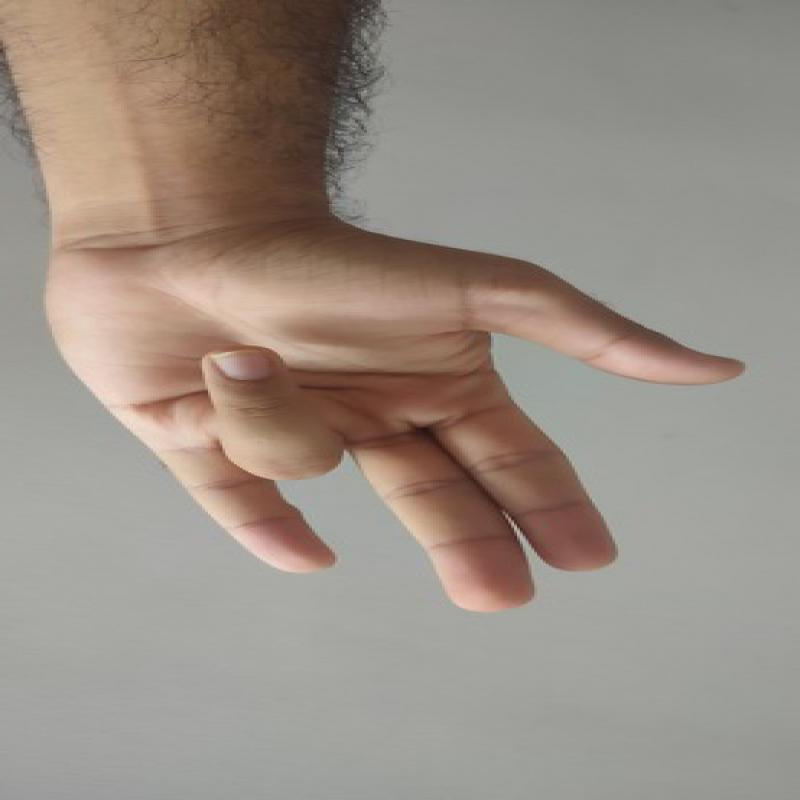Pathaaka: (35, 211, 751, 631)
